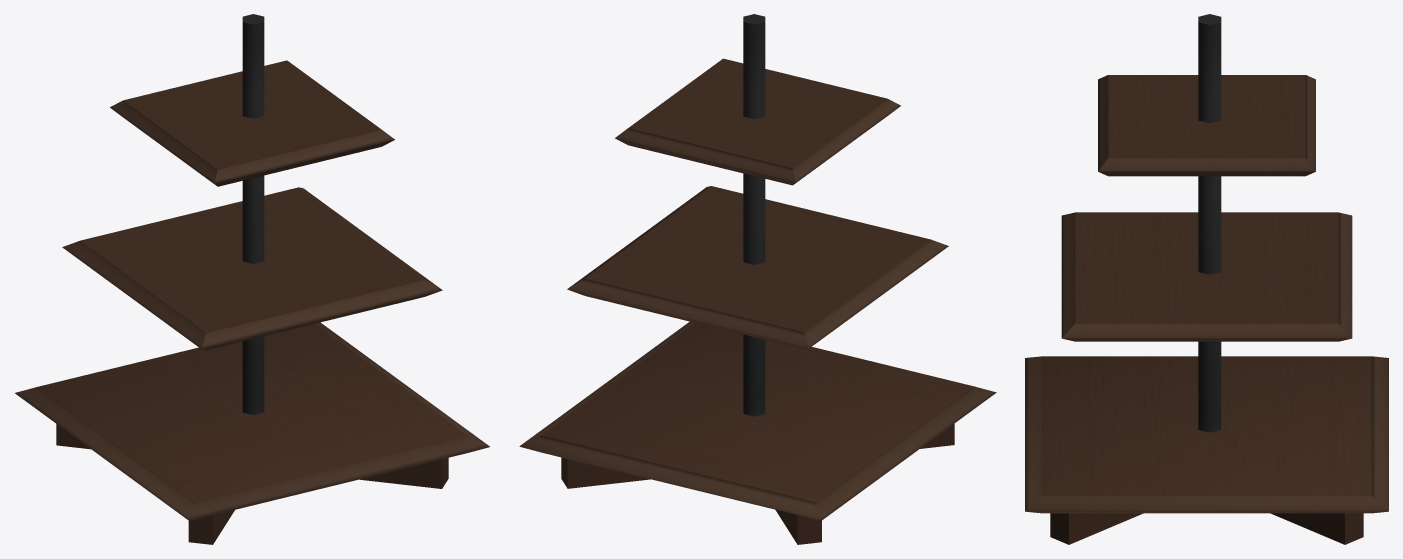
The model's file is Cupcake_Stand_B.FBX.
3 renders of one model, left to right at view 1: azimuth 30°, elevation 25°; view 2: azimuth 150°, elevation 25°; view 3: azimuth 270°, elevation 25°, orthographic. The views are drawn at different scales.
Visible parts, largest first — view 1: Cupcake_Stand; view 2: Cupcake_Stand; view 3: Cupcake_Stand.
Boxes of the visible parts, x1,y1,x2,y2 form: Cupcake_Stand: (15,14,489,544); Cupcake_Stand: (519,14,996,544); Cupcake_Stand: (1025,14,1388,544).
Size of the model in its own units: 110 by 154 by 110.
